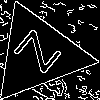Z: (13, 29, 71, 81)
